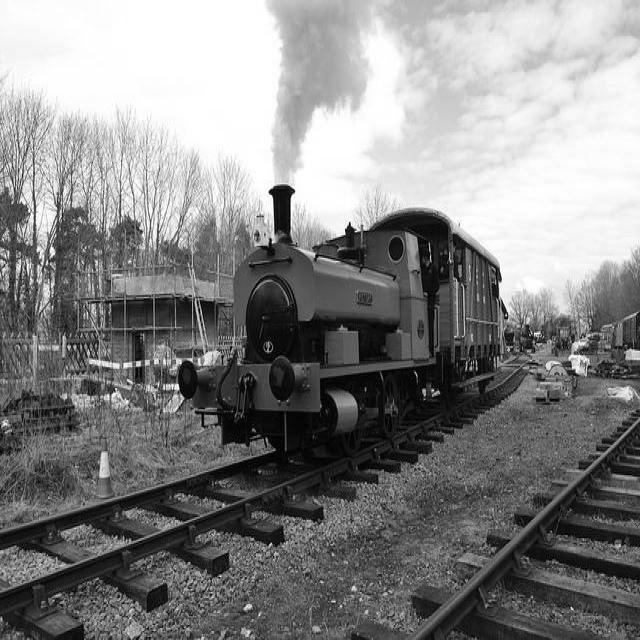vehicle: (573, 339, 591, 354), (562, 362, 573, 379), (534, 333, 543, 342)
